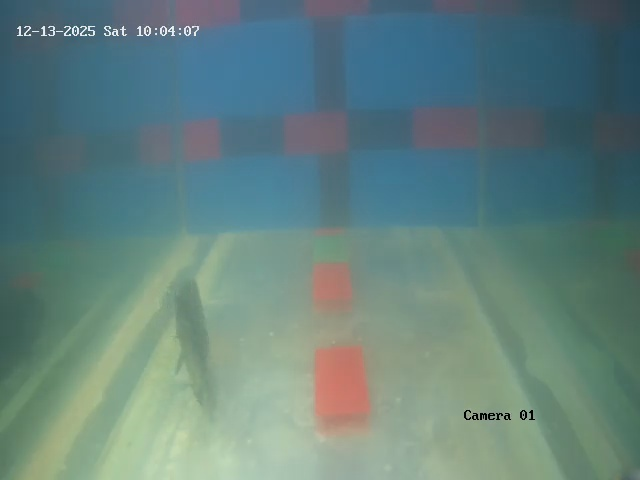fish: (168, 275, 215, 381)
